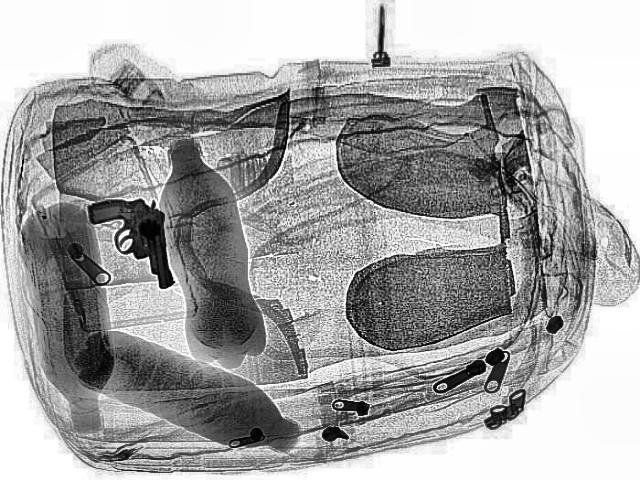Gun: (80, 184, 206, 292)
